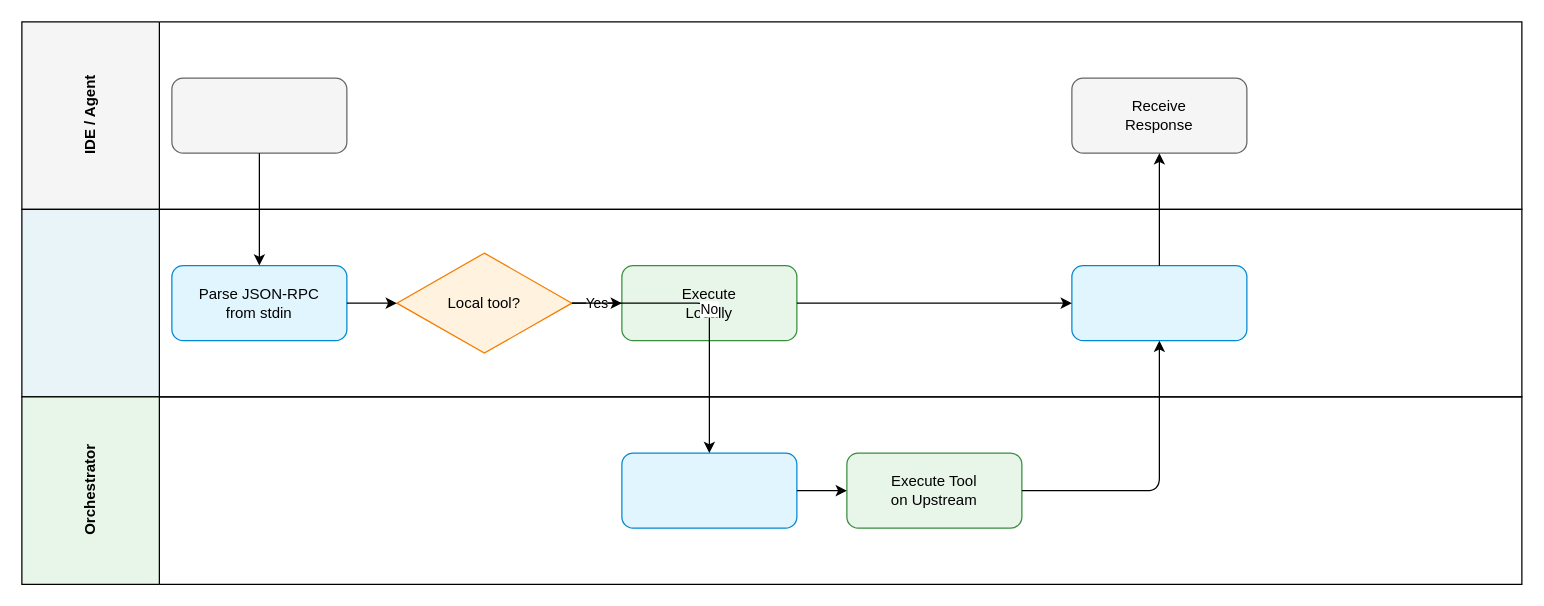
This 1544x606 diagram has some shape labels left out. The shapes that lost their labels are listed below. From the top down, each one's box as (x1, y1, x2, y2) in pixels, then its label:
(171, 77, 347, 153): Send Tool Request
(21, 208, 1522, 397): Python Bridge
(1071, 264, 1247, 341): Write JSON-RPC to stdout
(621, 452, 797, 528): Proxy via HTTP POST
